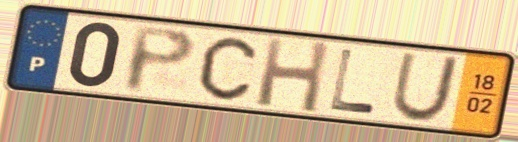0: (64, 20, 125, 90)
C: (196, 35, 260, 103)
H: (253, 35, 333, 117)
L: (327, 47, 379, 117)
P: (122, 24, 199, 96)
U: (388, 50, 464, 125)
